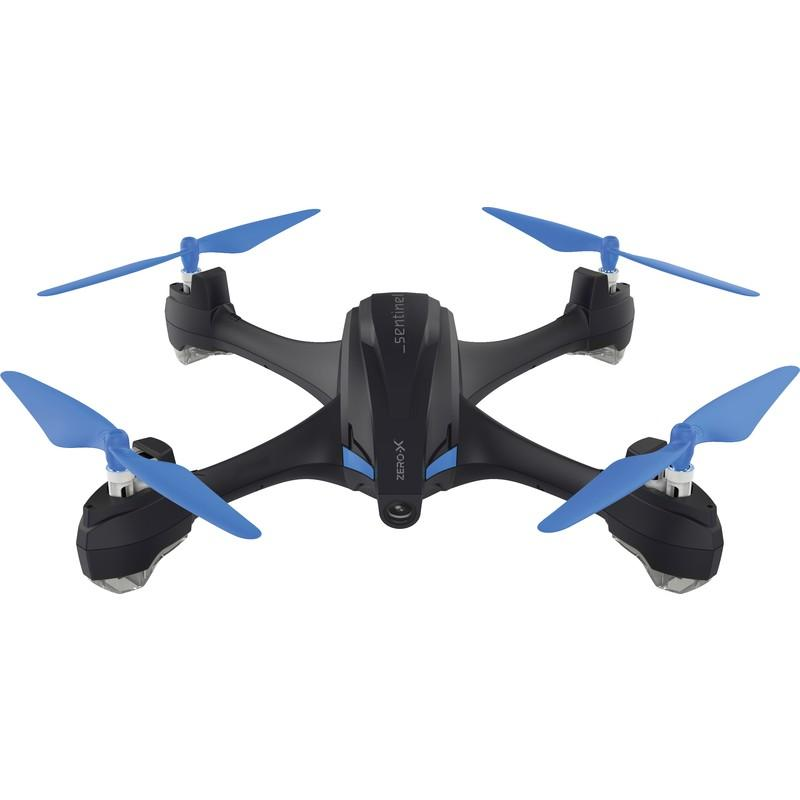drone: (17, 214, 797, 603)
